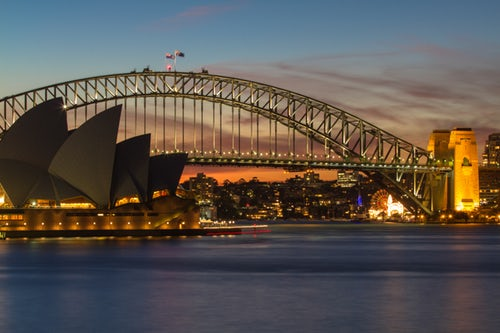opera house: (3, 88, 267, 242)
